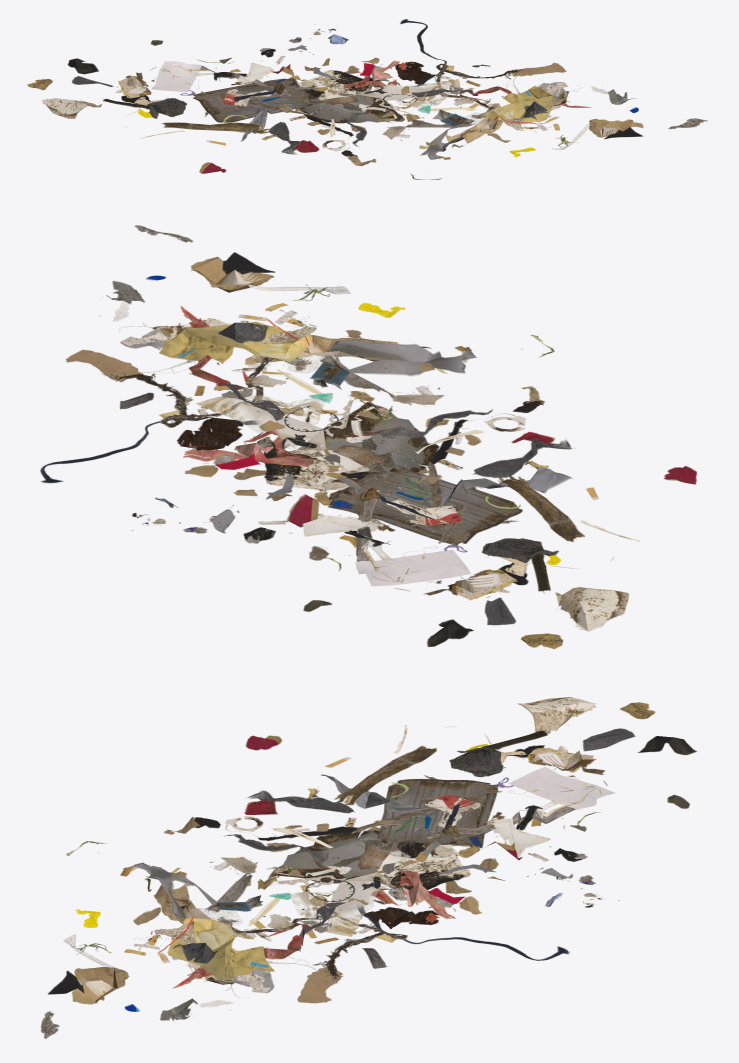
File: SM_Laji01.glb
3 renders of one model, top to bottom at view 1: azimuth 30°, elevation 25°; view 2: azimuth 150°, elevation 25°; view 3: azimuth 270°, elevation 25°, orthographic. The views are drawn at different scales.
Parts seen in each view (by area): view 1: SM_LaJi01; view 2: SM_LaJi01; view 3: SM_LaJi01.
Boxes of the visible parts, x1,y1,x2,y2 form: SM_LaJi01: (27, 19, 707, 180); SM_LaJi01: (40, 225, 697, 648); SM_LaJi01: (40, 697, 697, 1038).
Size of the model in its own units: 1.84 by 0.0571 by 1.54.
1 material, 1 textured.
